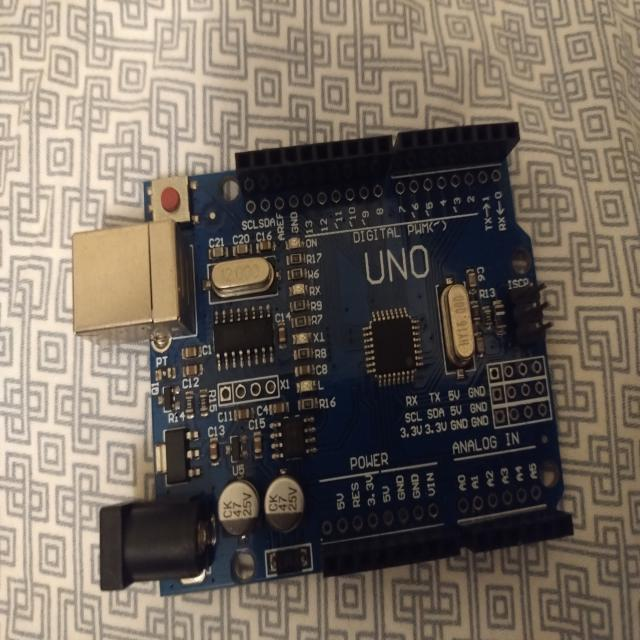arduino: (73, 113, 577, 598)
